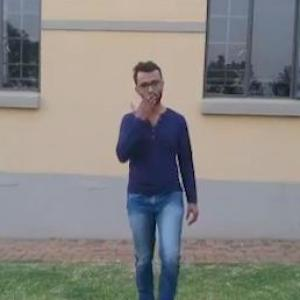follow: (109, 63, 184, 299)
